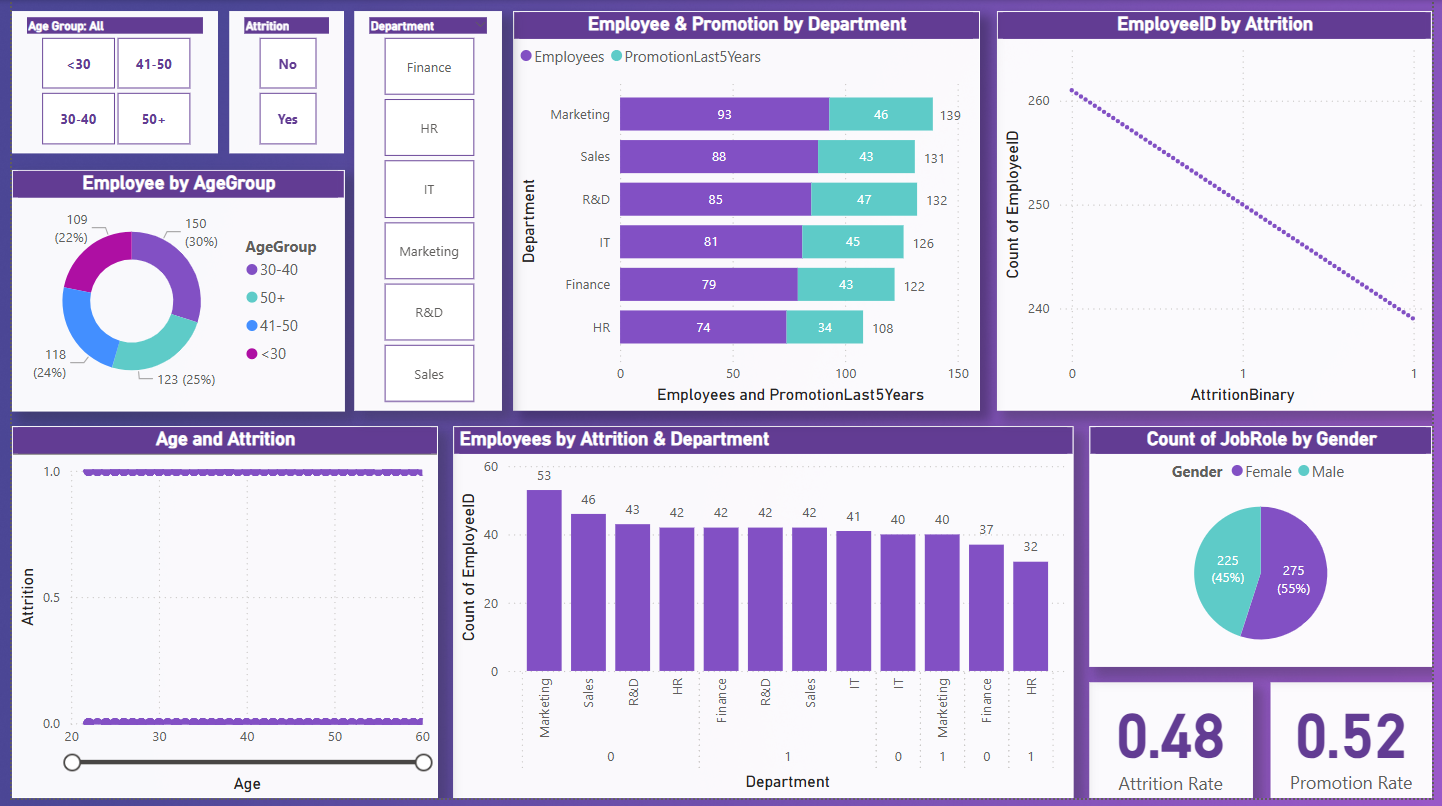

Layout of this report page (visuals, bound fields, positions):
{"tool":"powerbi","page":{"name":"Page 1","canvas":[1280,720],"ordinal":0},"visuals":[{"type":"card","fields":{"Values":["Sheet1.Attrition Rate"]},"box":[970.9,616.3,154.7,103.5],"z":0},{"type":"card","fields":{"Values":["Sheet1.Promotion Rate"]},"box":[1134.9,616.3,145.3,103.5],"z":1000},{"type":"clusteredColumnChart","title":"Employees by Attrition & Department","fields":{"Category":["Sheet1.AttritionBinary","Sheet1.Department"],"Y":["CountNonNull(Sheet1.EmployeeID)"]},"box":[397.7,384.9,559.3,334.9],"z":2000},{"type":"lineChart","title":"EmployeeID by Attrition","fields":{"Y":["CountNonNull(Sheet1.EmployeeID)"],"Category":["Sheet1.AttritionBinary"]},"box":[888.2,10.7,392,360],"z":3000},{"type":"donutChart","title":"Employee by AgeGroup","fields":{"Y":["CountNonNull(Sheet1.EmployeeID)"],"Category":["Sheet1.AgeGroup"]},"box":[0,152.8,299.6,217.9],"z":4000},{"type":"barChart","title":"Employee & Promotion by Department","fields":{"Y":["CountNonNull(Sheet1.EmployeeID)","Sum(Sheet1.PromotionLast5Years)"],"Category":["Sheet1.Department"]},"box":[452.4,10.7,420.4,360],"z":5000},{"type":"scatterChart","title":"Age and Attrition","fields":{"Category":["Sheet1.EmployeeID"],"X":["Sum(Sheet1.Age)"],"Y":["Sum(Sheet1.AttritionBinary)"]},"box":[0,384.9,383.7,335.2],"z":6000},{"type":"pieChart","fields":{"Category":["Sheet1.Gender"],"Y":["CountNonNull(Sheet1.JobRole)"]},"box":[971.1,384.9,309.1,216.7],"z":7000},{"type":"slicer","fields":{"Values":["Sheet1.AgeGroup"]},"box":[0,10.7,185.9,127.9],"z":8000},{"type":"slicer","fields":{"Values":["Sheet1.Department"]},"box":[309.1,10.7,132.6,360],"z":9000},{"type":"slicer","fields":{"Values":["Sheet1.Attrition"]},"box":[196.6,10.7,103,127.9],"z":10000}]}

Visuals, with their boxes in screenshot pixels (x1, y1, x2, y2), scaled from the page's 1280x720 canvas onto the 1442x806 screenshot:
card - Sheet1.Attrition Rate: l=1094, t=690, r=1268, b=805
card - Sheet1.Promotion Rate: l=1279, t=690, r=1441, b=805
"Employees by Attrition & Department" clusteredColumnChart: l=448, t=431, r=1078, b=805
"EmployeeID by Attrition" lineChart: l=1001, t=12, r=1441, b=415
"Employee by AgeGroup" donutChart: l=0, t=171, r=338, b=415
"Employee & Promotion by Department" barChart: l=510, t=12, r=983, b=415
"Age and Attrition" scatterChart: l=0, t=431, r=432, b=805
pieChart - Sheet1.Gender x CountNonNull(Sheet1.JobRole): l=1094, t=431, r=1441, b=673
slicer - Sheet1.AgeGroup: l=0, t=12, r=209, b=155
slicer - Sheet1.Department: l=348, t=12, r=498, b=415
slicer - Sheet1.Attrition: l=221, t=12, r=338, b=155
